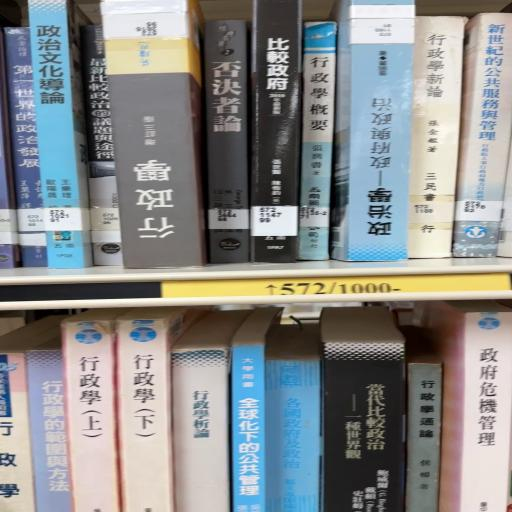reverse: (102, 1, 207, 270), (332, 1, 416, 262)
